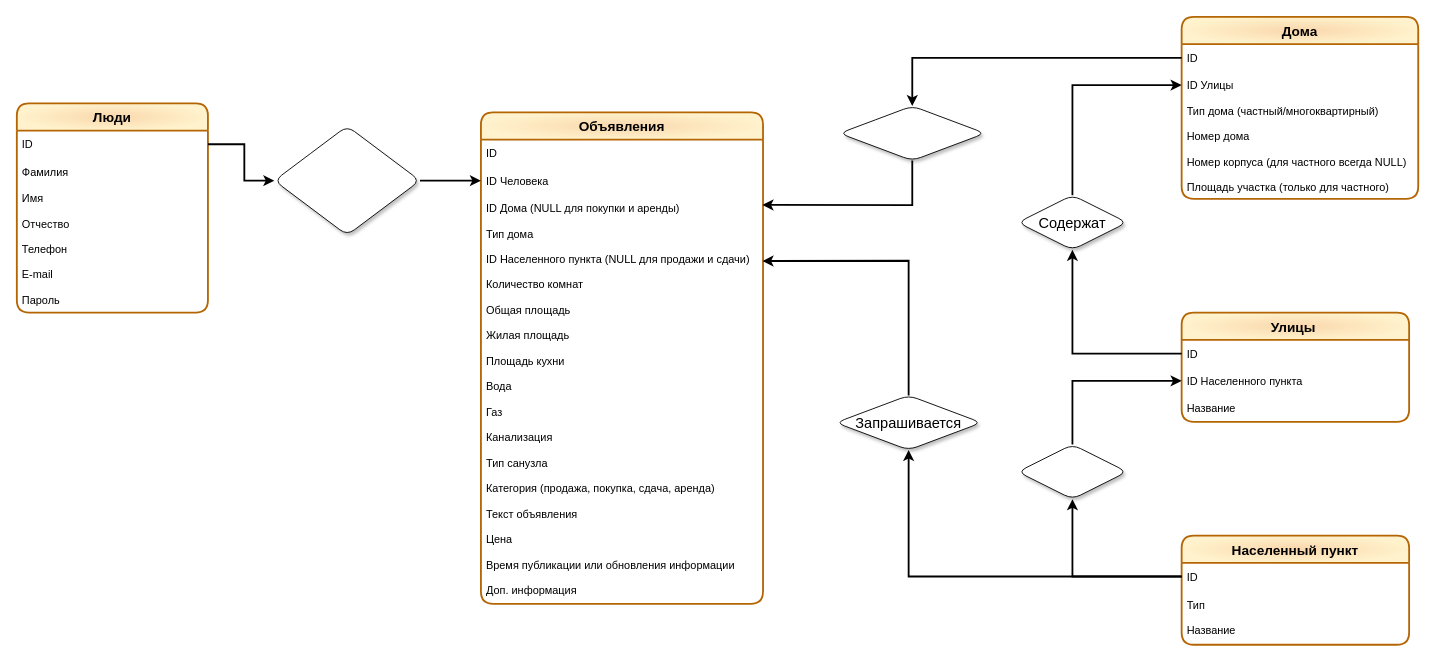
Image size: 1434x661. Some labels were removed from this diagram. Here are the shapes that lost their labels. From the top down, the centre of each, then its label:
the point at 913,134: Предлагаются
the point at 347,181: Добавляют/ Редактируют/ Удаляют
the point at 1072,473: Содержит
